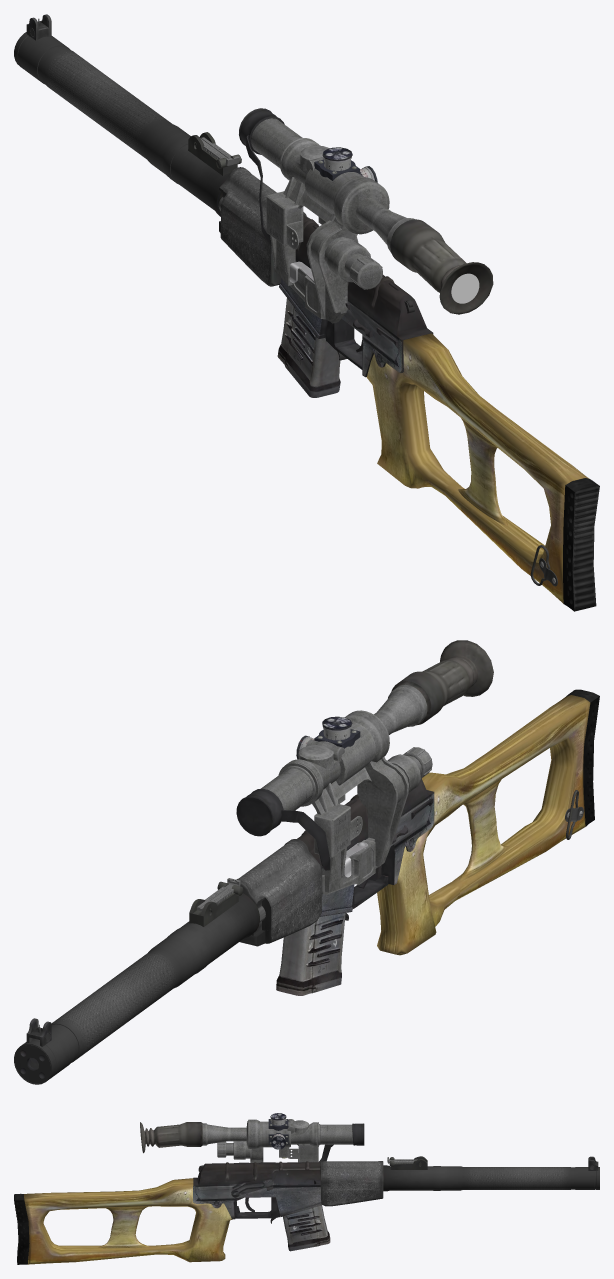
The picture shows the model from 3 angles, top to bottom: view 1: azimuth 30°, elevation 25°; view 2: azimuth 150°, elevation 25°; view 3: azimuth 270°, elevation 25°; orthographic projection. The views are drawn at different scales.
Visible parts, largest first — view 1: Body, MagazineGeometry; view 2: Body, MagazineGeometry; view 3: Body, MagazineGeometry.
Boxes of the visible parts, left/top/right/bottom form: Body: left=14, top=14, right=599, bottom=611; MagazineGeometry: left=277, top=298, right=340, bottom=397; Body: left=14, top=640, right=599, bottom=1084; MagazineGeometry: left=276, top=913, right=345, bottom=995; Body: left=14, top=1113, right=599, bottom=1264; MagazineGeometry: left=283, top=1205, right=330, bottom=1251.
Size of the model in its own units: 0.1462 by 0.4909 by 1.79.
Materials: 6 (5 with a texture image).
